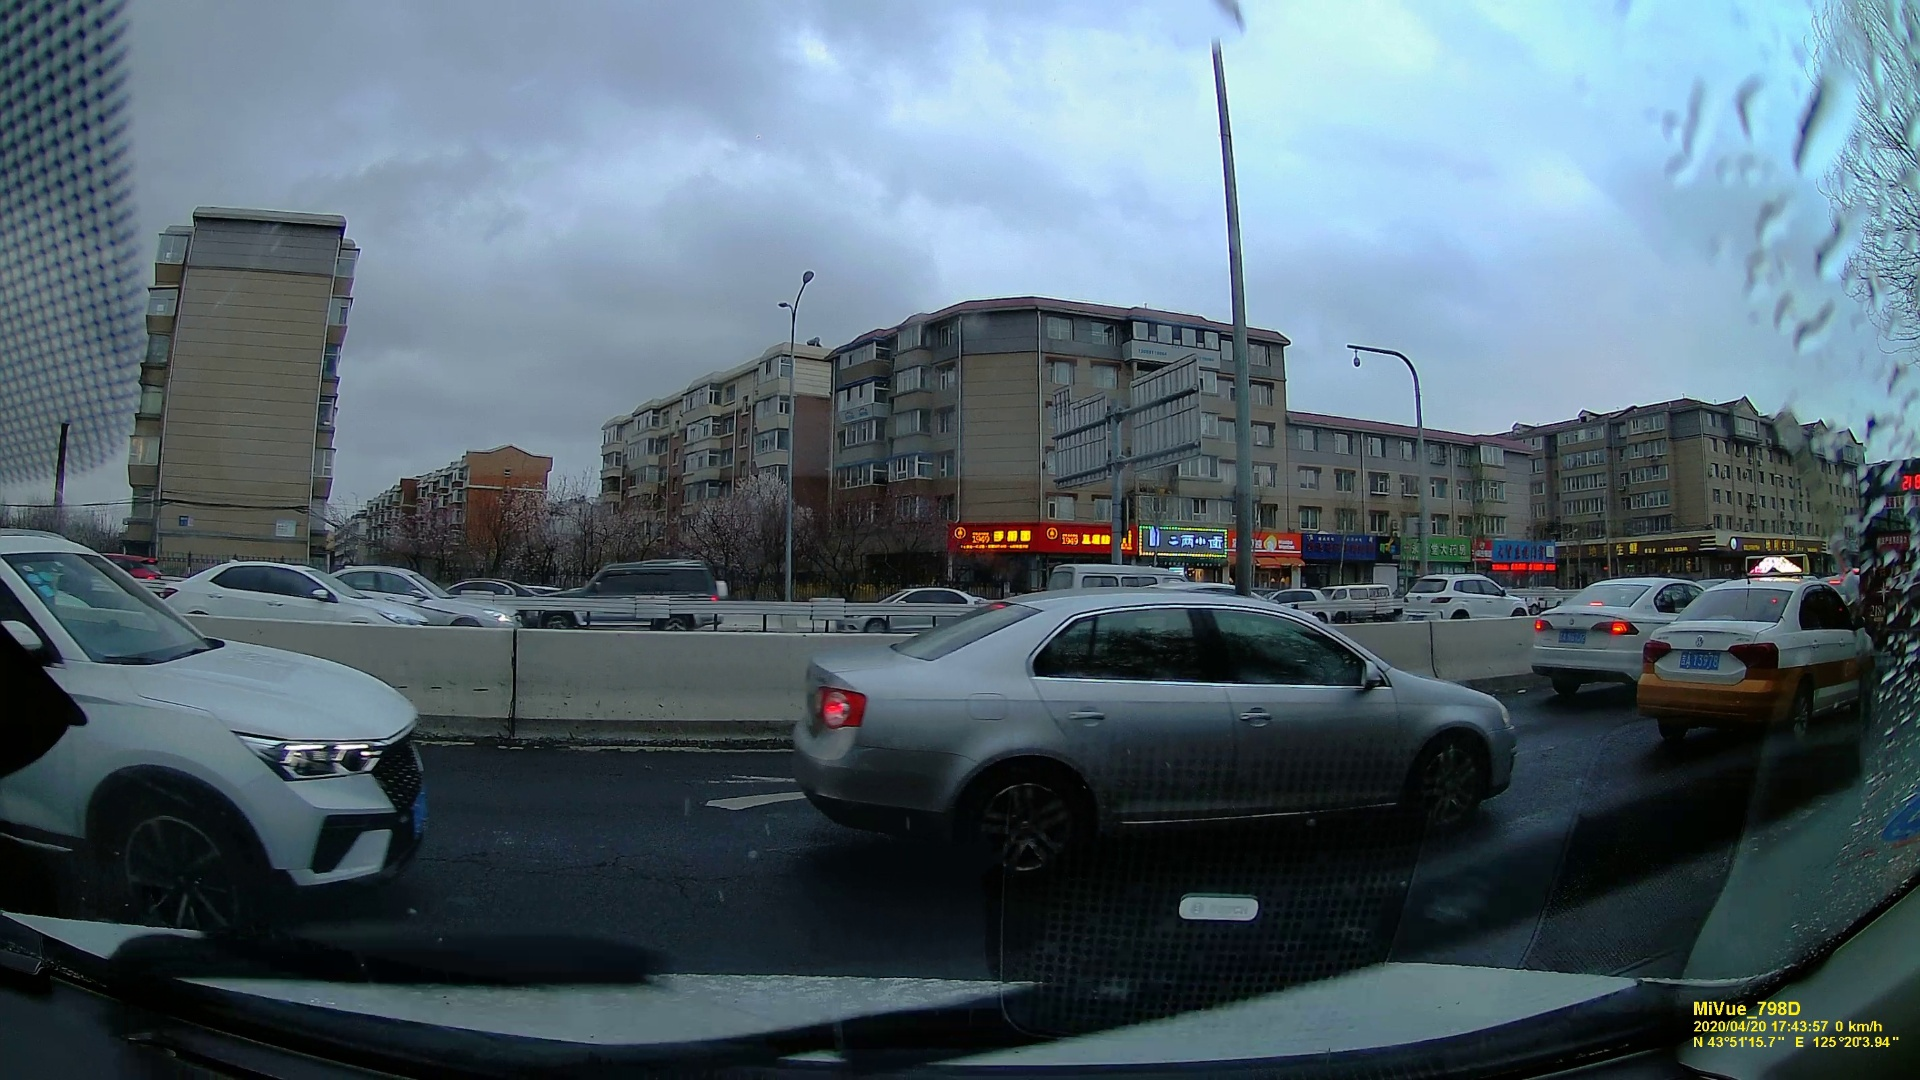vehicle: (806, 592, 1520, 851), (16, 549, 452, 894), (1644, 568, 1874, 746), (149, 553, 427, 642), (527, 556, 723, 640), (1534, 578, 1656, 699), (835, 582, 990, 632), (1404, 572, 1528, 618)
